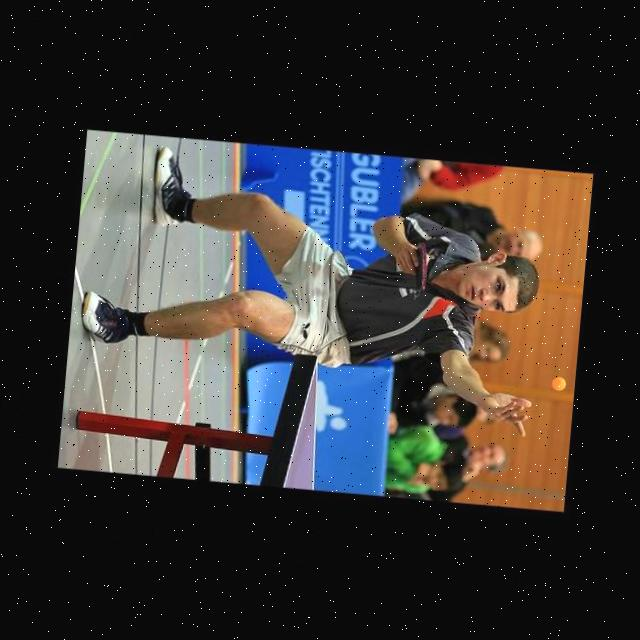ping-pong-ball: (549, 376, 566, 392)
